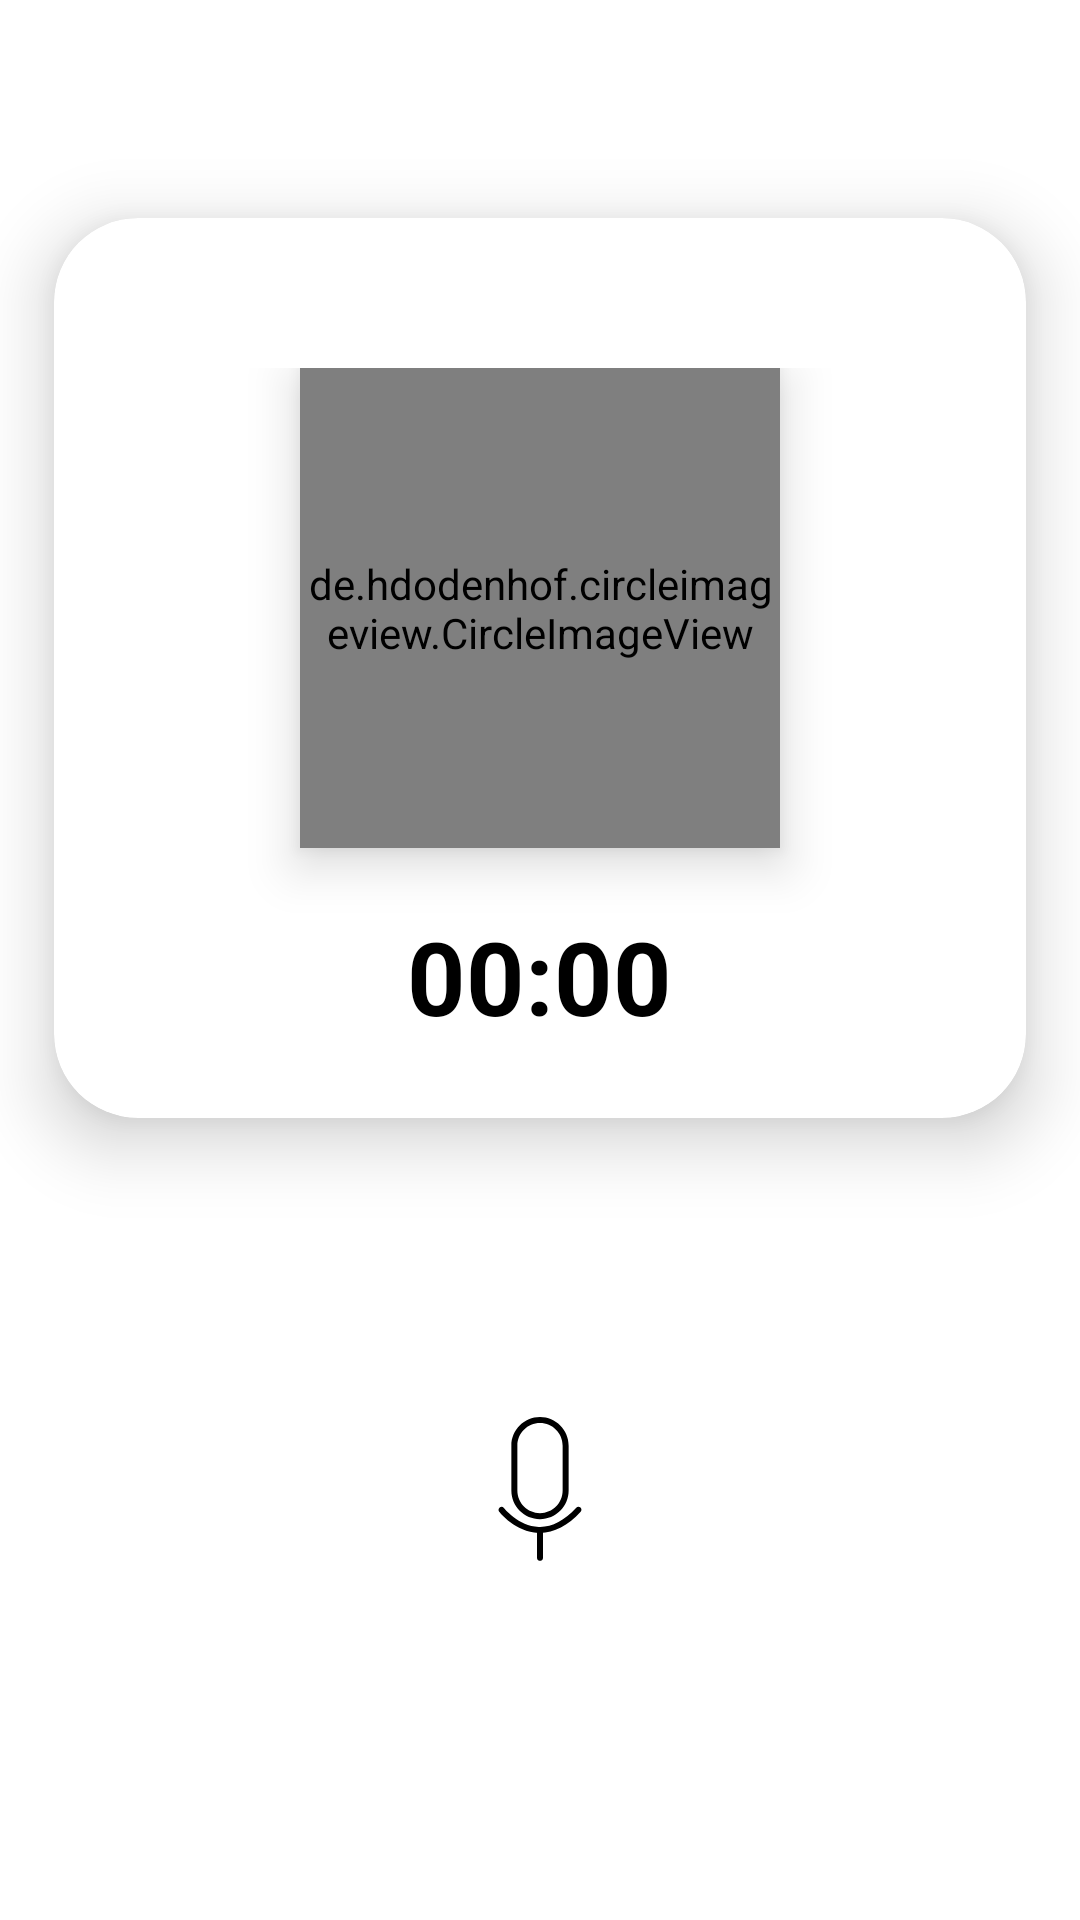

Where to tap for icons on this 1080px x 1920px app screen, as (x,y):
recorder: (540,1489)
